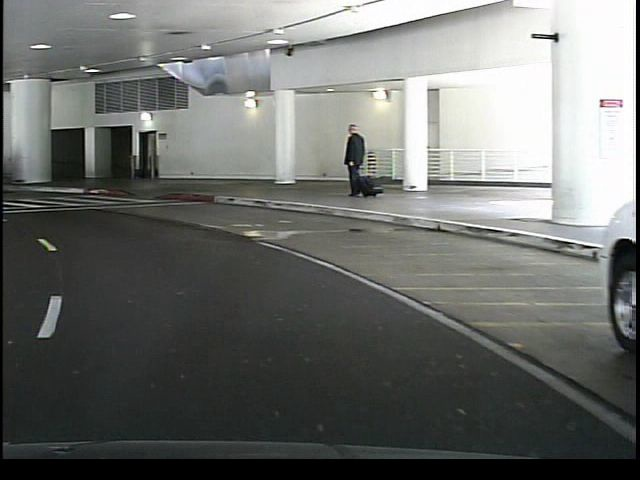person: (336, 122, 367, 200)
